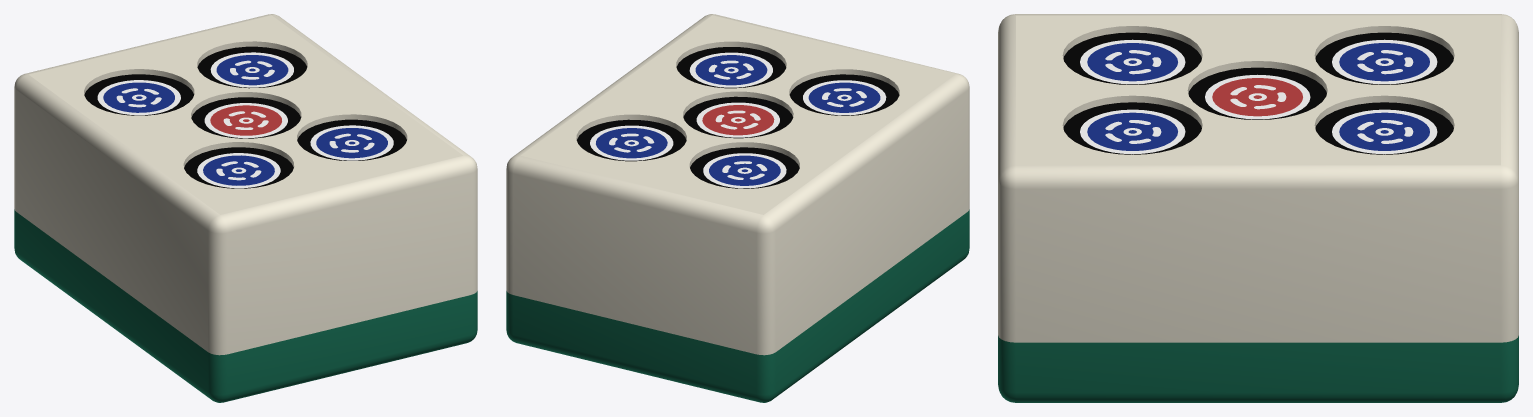
Rendered from Pin5.glb.
3 views of the same model, side by side, from view 1: azimuth 30°, elevation 25°; view 2: azimuth 150°, elevation 25°; view 3: azimuth 270°, elevation 25° (orthographic). The views are drawn at different scales.
Parts seen in each view (by area): view 1: Pin5_body, Pin5_inset; view 2: Pin5_body, Pin5_inset; view 3: Pin5_body, Pin5_inset.
Boxes of the visible parts, box(x1,y1,x2,y2) form: Pin5_body: box(14, 14, 477, 402); Pin5_inset: box(84, 46, 406, 188); Pin5_body: box(506, 14, 969, 402); Pin5_inset: box(576, 47, 899, 188); Pin5_body: box(998, 14, 1518, 402); Pin5_inset: box(1063, 32, 1453, 154).
Size of the model in its own units: 0.024 by 0.016 by 0.032.
